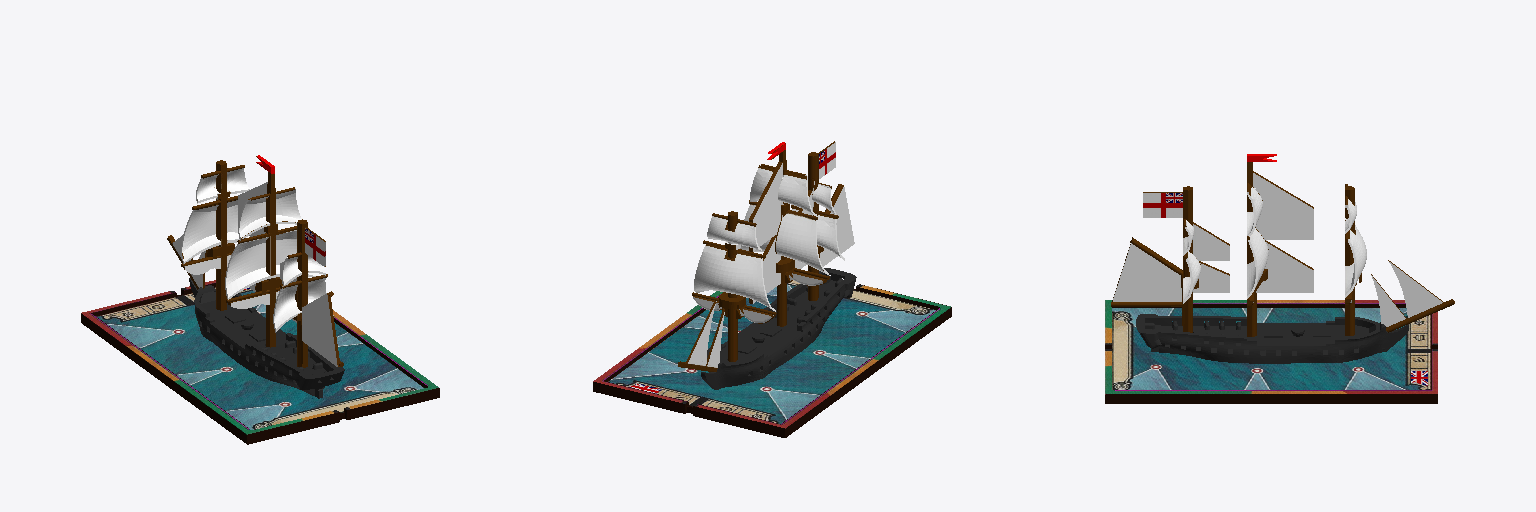
3 renders of one model, left to right at view 1: azimuth 30°, elevation 25°; view 2: azimuth 150°, elevation 25°; view 3: azimuth 270°, elevation 25°, orthographic.
Visible parts, largest first — view 1: Frigate_32_gun.obj; view 2: Frigate_32_gun.obj; view 3: Frigate_32_gun.obj.
Part boxes in pixels (left/top/right/bottom): Frigate_32_gun.obj: left=81, top=155, right=439, bottom=444; Frigate_32_gun.obj: left=593, top=141, right=951, bottom=437; Frigate_32_gun.obj: left=1105, top=154, right=1454, bottom=403.
Size of the model in its own units: 4.3 by 4.33 by 6.78.
4 materials, 3 textured.